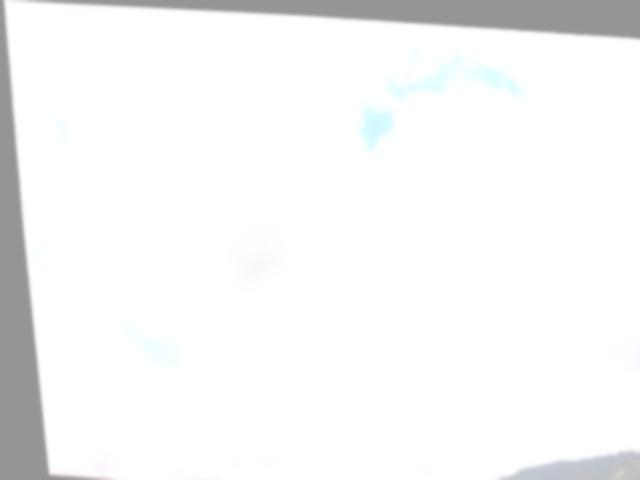iha: (202, 82, 219, 99)
